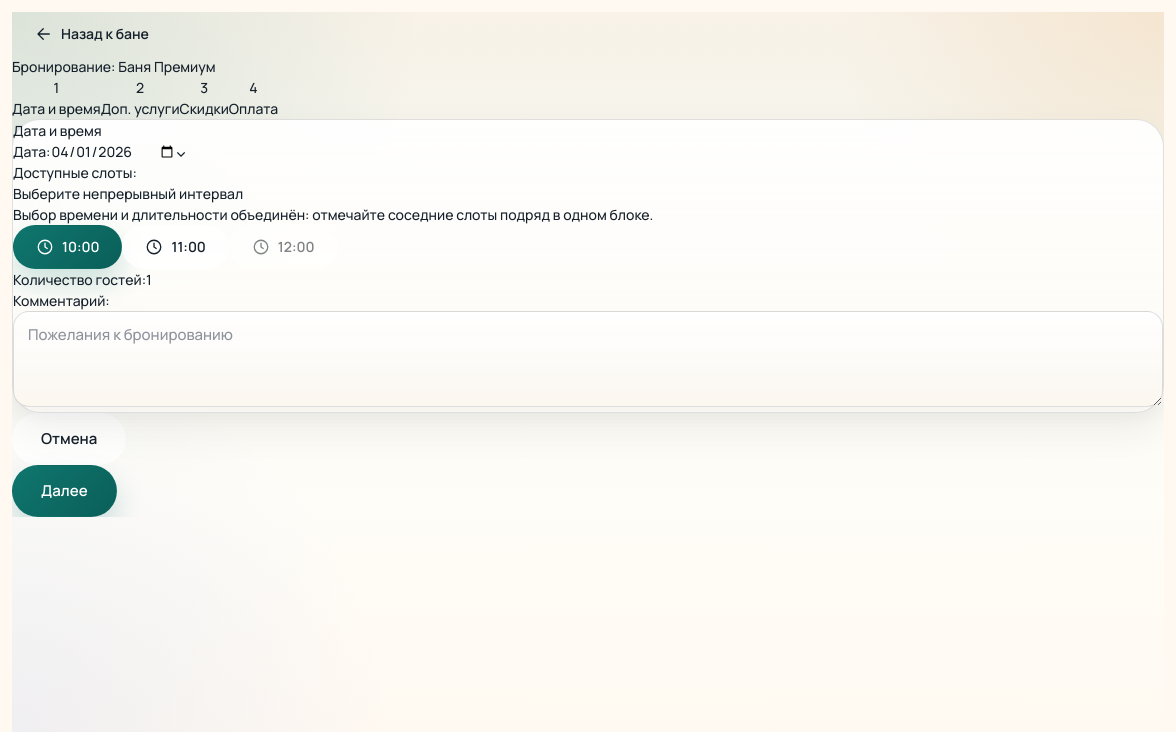
Test: BookingCreate › Step navigation › shows "Назад" button on step 2+
Click the button "Далее" at (64, 491), box [12,465,117,517]
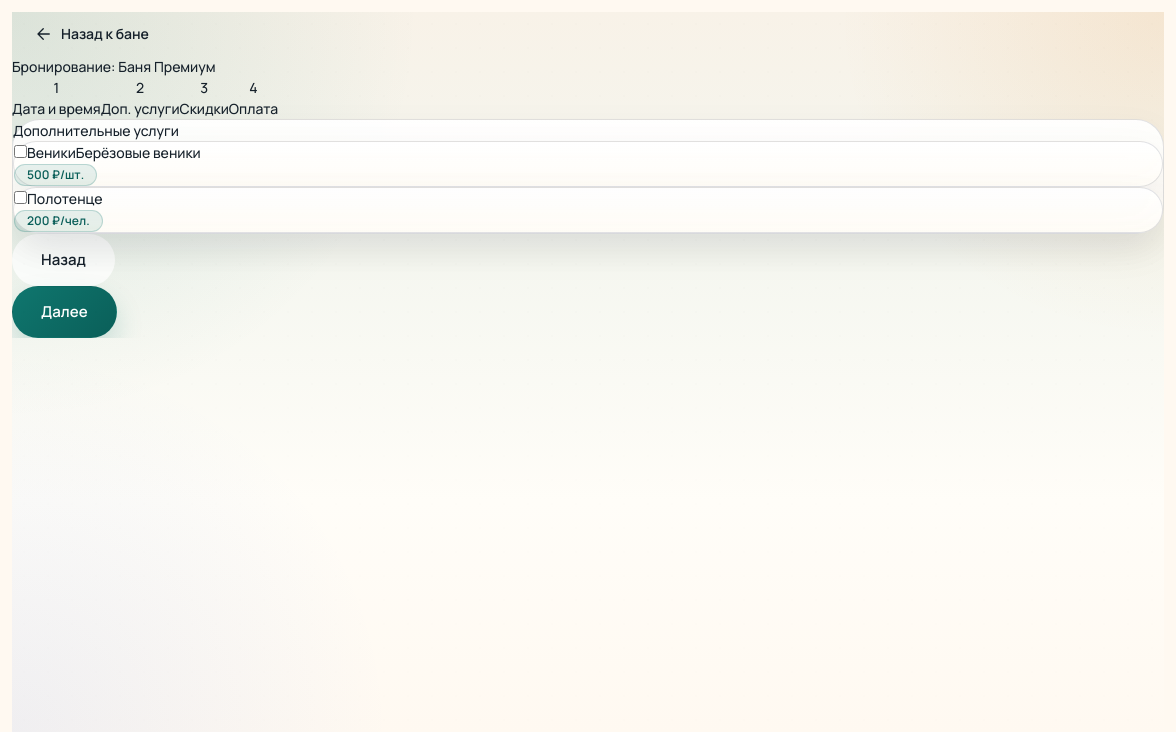
Expected: the text "Назад" is shown, [41,249,86,271]
